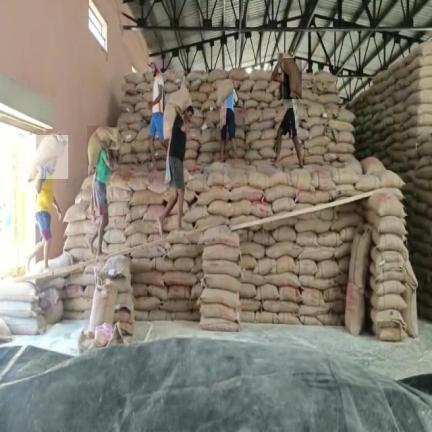Zone-Counting: (157, 85, 193, 235), (28, 136, 67, 265), (89, 127, 117, 254), (271, 53, 302, 167), (218, 79, 236, 161)
